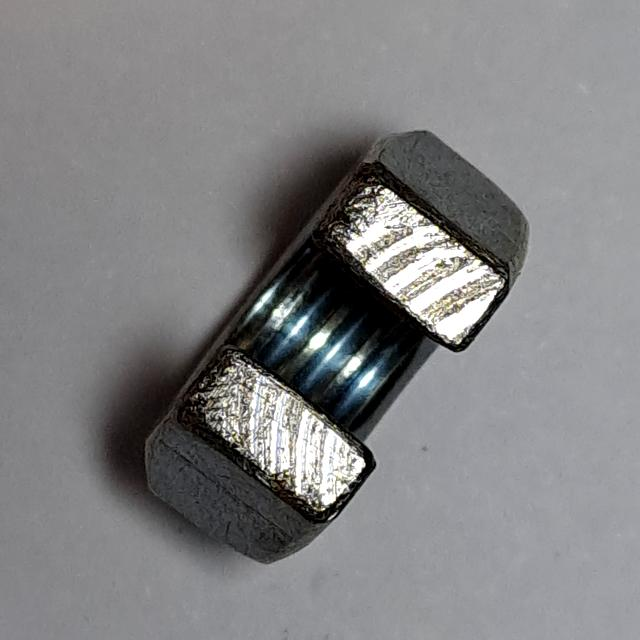Side-Fracture: (128, 113, 544, 587)
